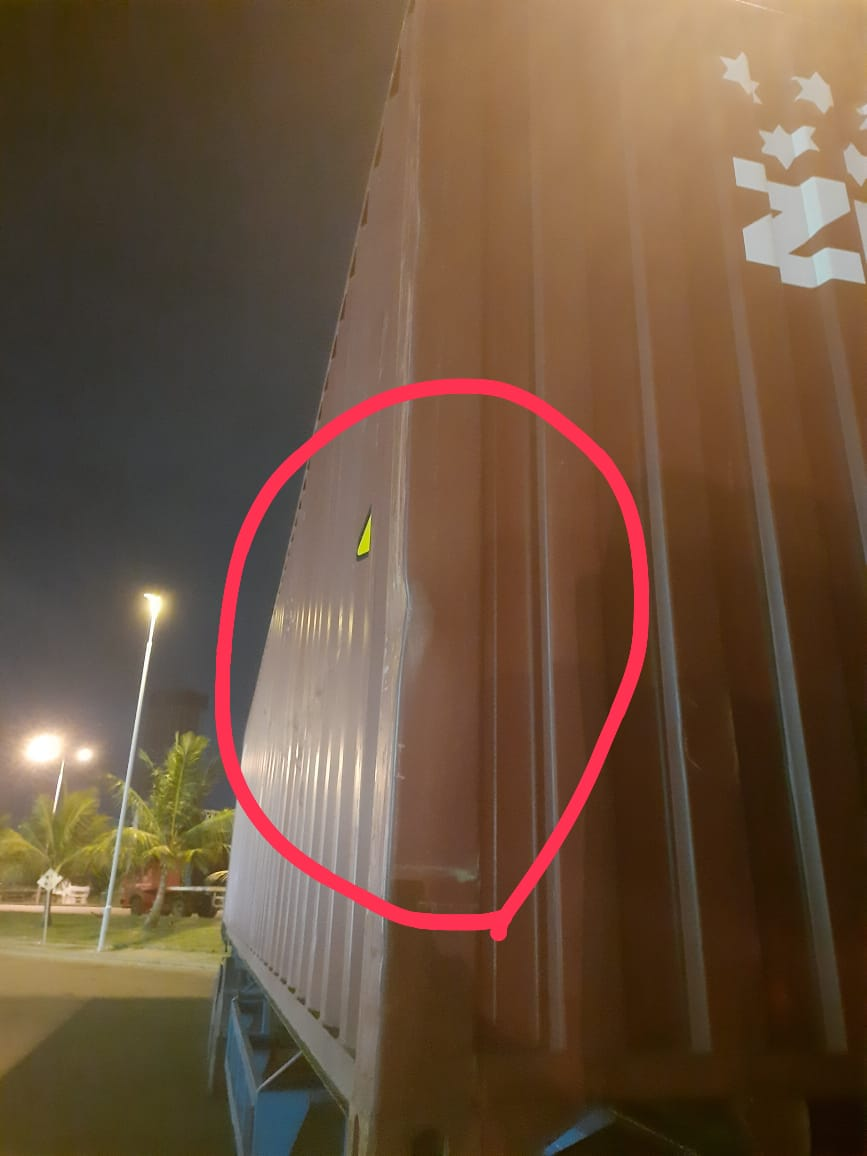front_side: (400, 31, 867, 1110)
right_side: (208, 67, 412, 1105)
